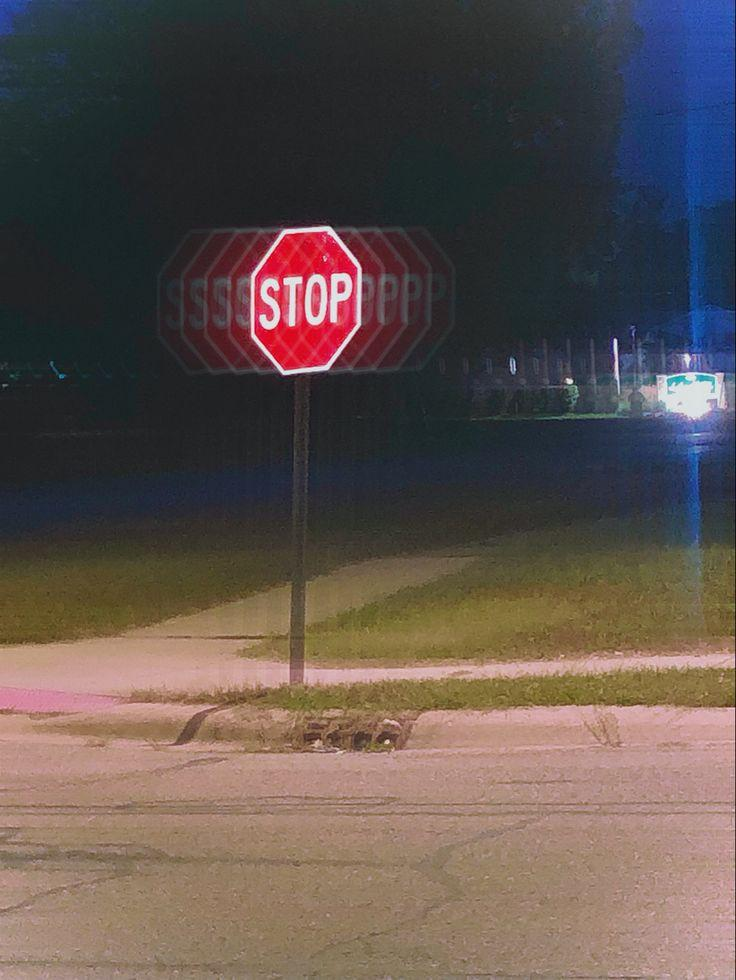Pole: (288, 378, 304, 690)
Sign: (255, 230, 357, 369)
